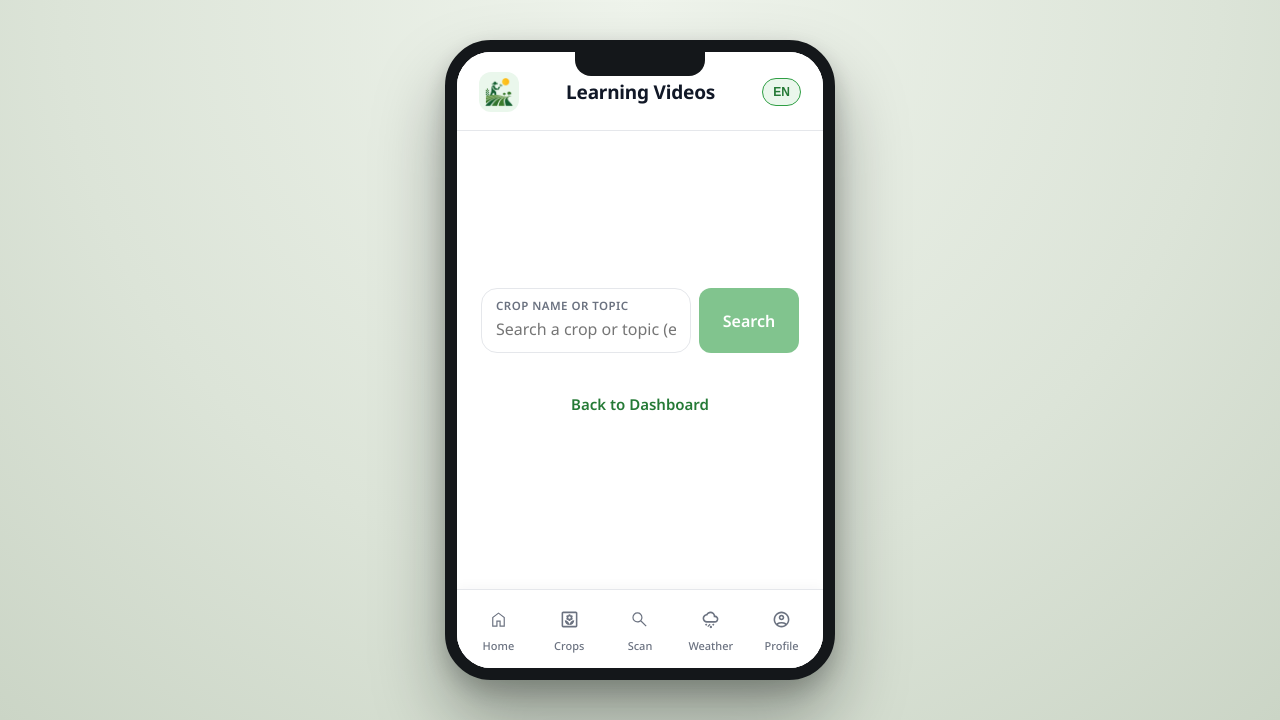
Test: VideosPage › searches for a manually typed crop/topic and shows results linking out to YouTube
Type "rice blast" into the field with placeholder "Search a crop or topic (e.g. Arecanut bud rot)" at (586, 329), box [496, 316, 676, 342]
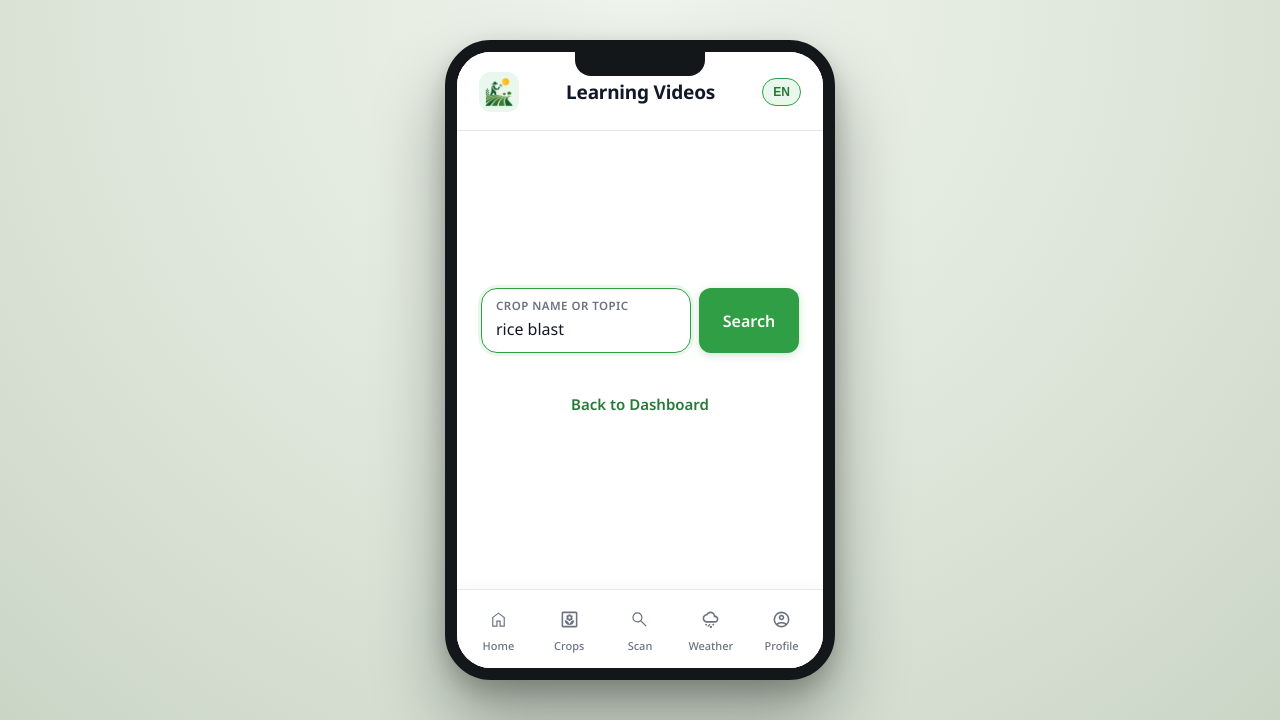
Click the button "Search" at (749, 321), box [699, 288, 799, 353]
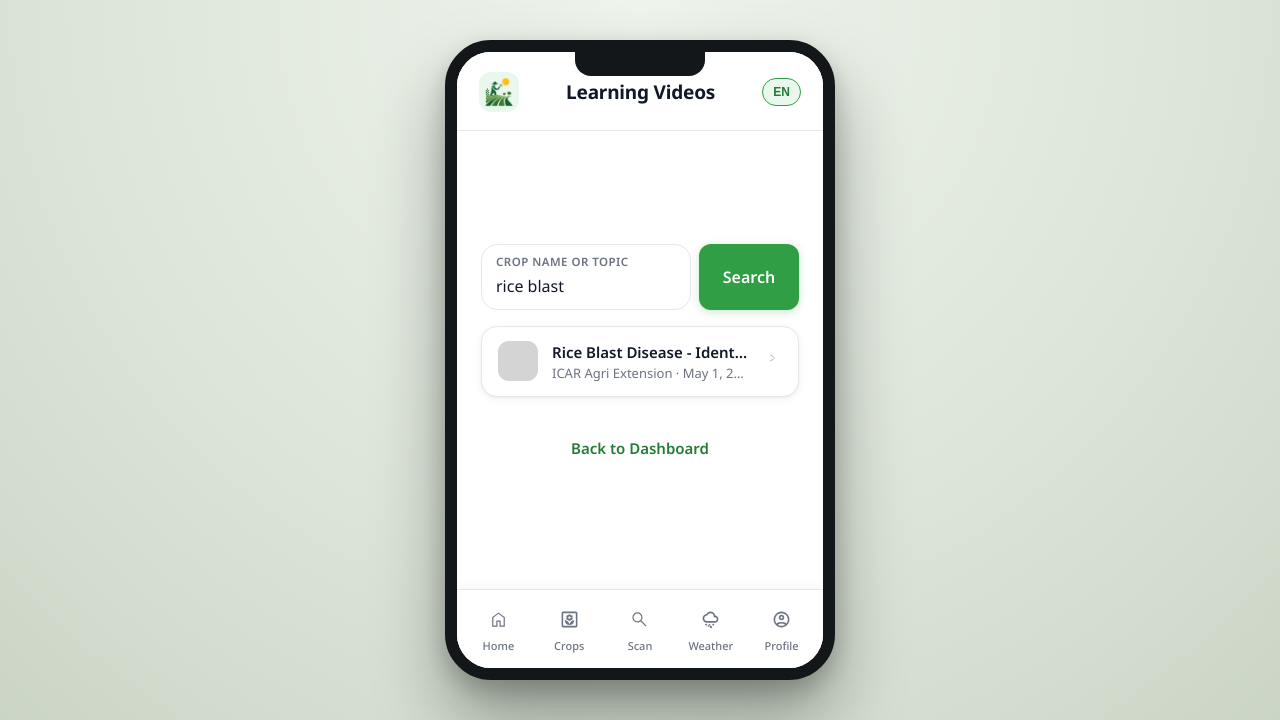
Expected: the text "Rice Blast Disease - Identification & Treatment" is shown, [552, 341, 750, 363]
